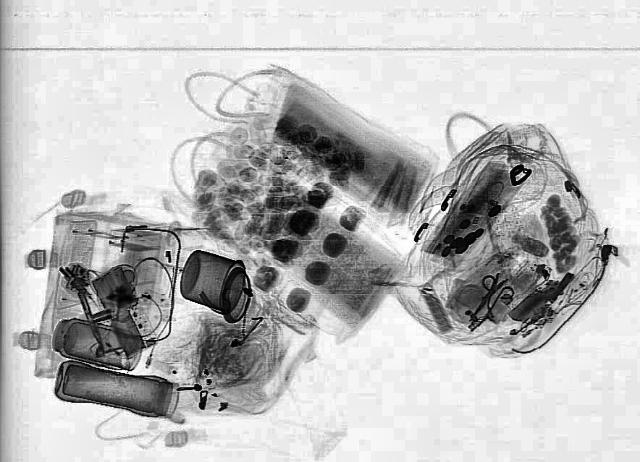Scissors: (458, 273, 522, 323)
